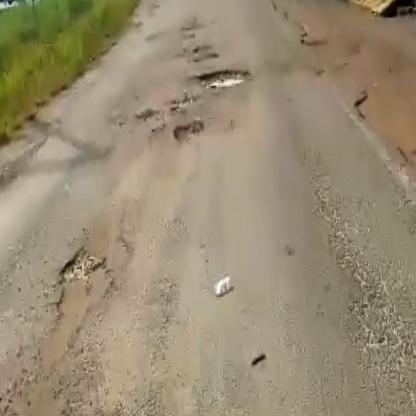pothole: (27, 247, 124, 378), (192, 65, 252, 88), (166, 115, 208, 142)
